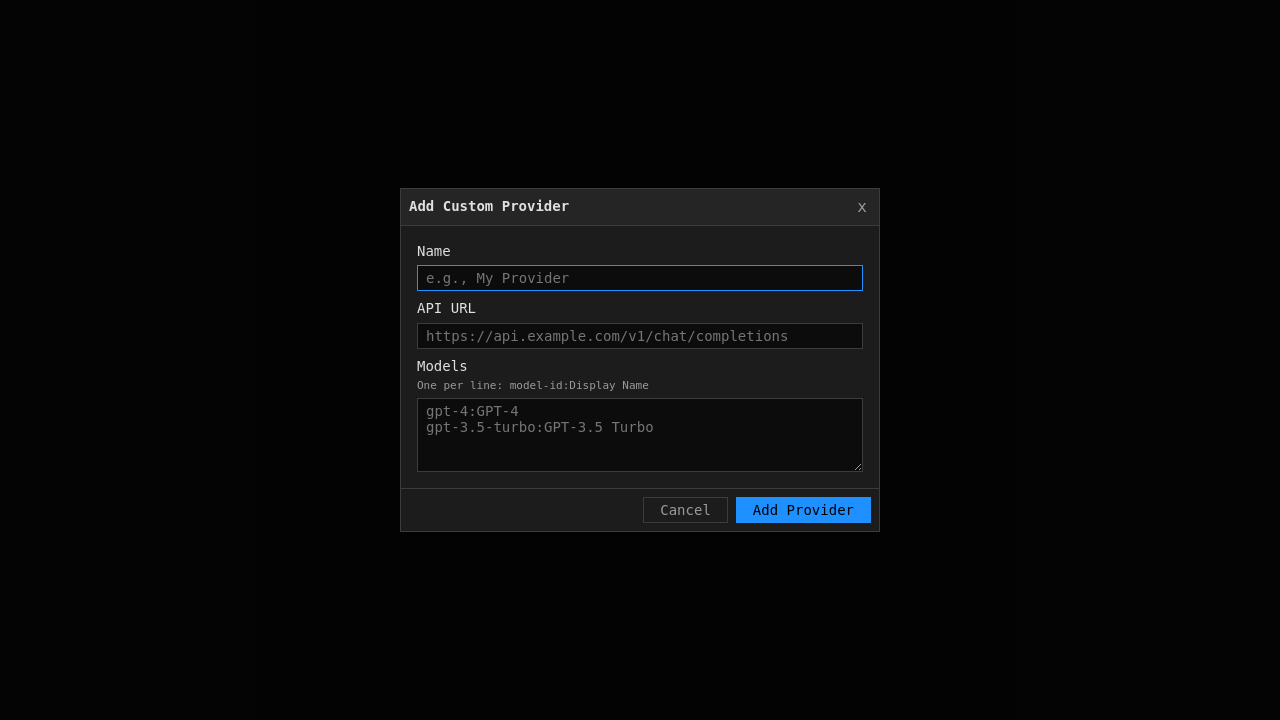
it: ProviderModal › Add Mode › validates required API URL
Type "Test Provider" into the field with placeholder "e.g., My Provider". click: x=640, y=278
box: [417,265,863,291]
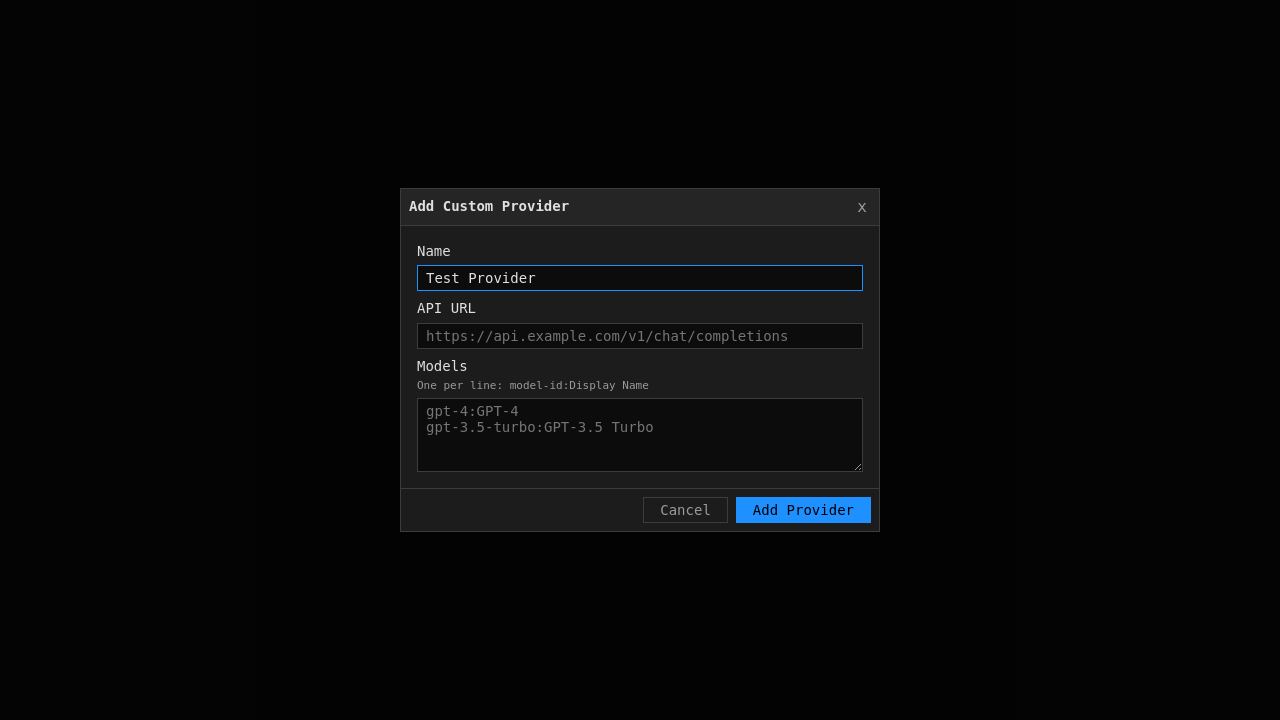
Click the button "Add Provider". click: x=803, y=510
box: [736,497,871,523]
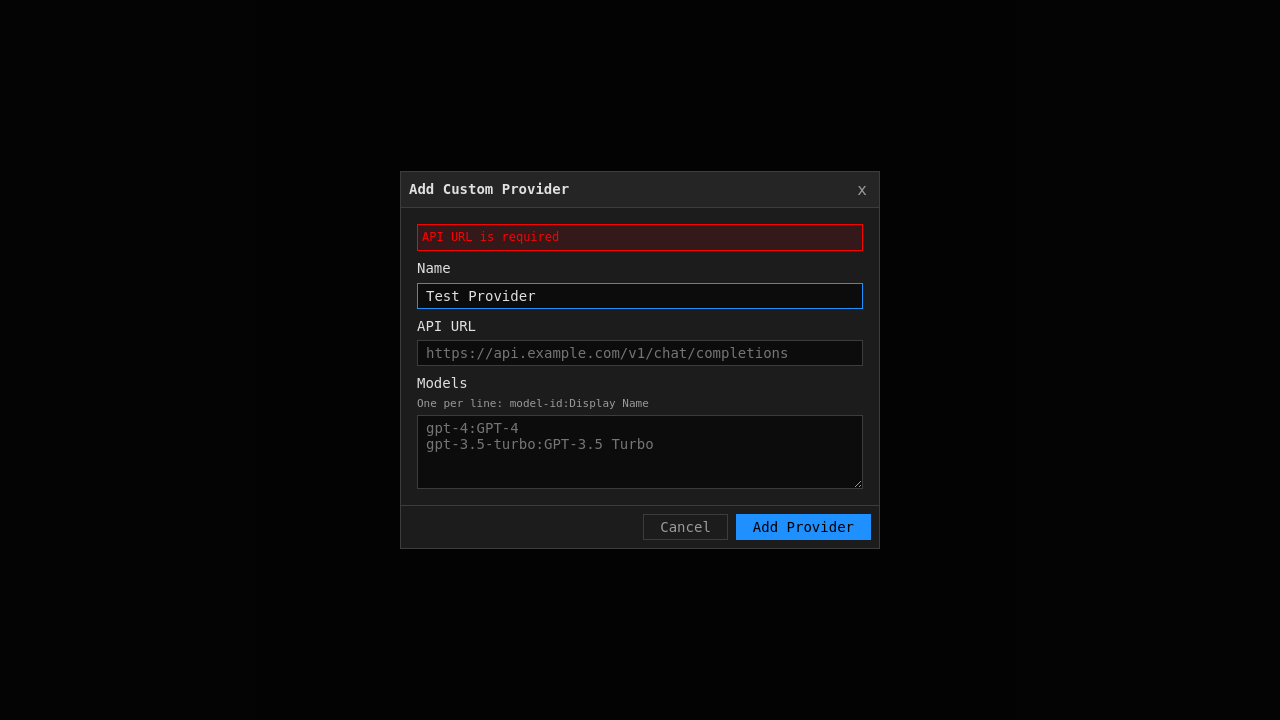
Expected: the text "API URL is required" is shown, [417,224,863,251]
